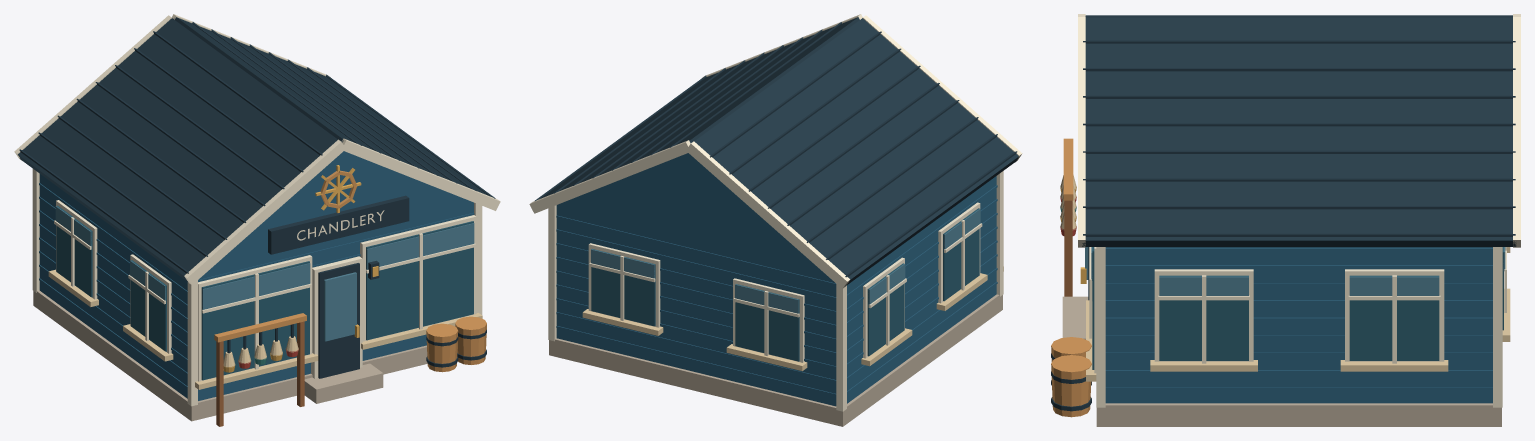
Rendered from sound_chandlery.glb.
3 views of the same model, side by side, from view 1: azimuth 30°, elevation 25°; view 2: azimuth 150°, elevation 25°; view 3: azimuth 270°, elevation 25° (orthographic). The views are drawn at different scales.
Parts seen in each view (by area): view 1: sound_chandlery; view 2: sound_chandlery; view 3: sound_chandlery.
Boxes of the visible parts, x1,y1,x2,y2 form: sound_chandlery: (14,14,500,426); sound_chandlery: (529,14,1022,426); sound_chandlery: (1051,14,1520,426).
Bounding box in the file's own units: 7.72 × 5.89 × 7.81.
